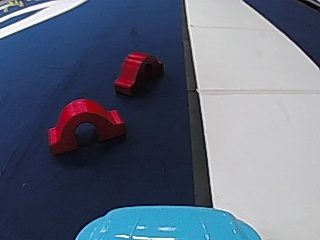bridge: (42, 96, 127, 152), (112, 48, 162, 98)
